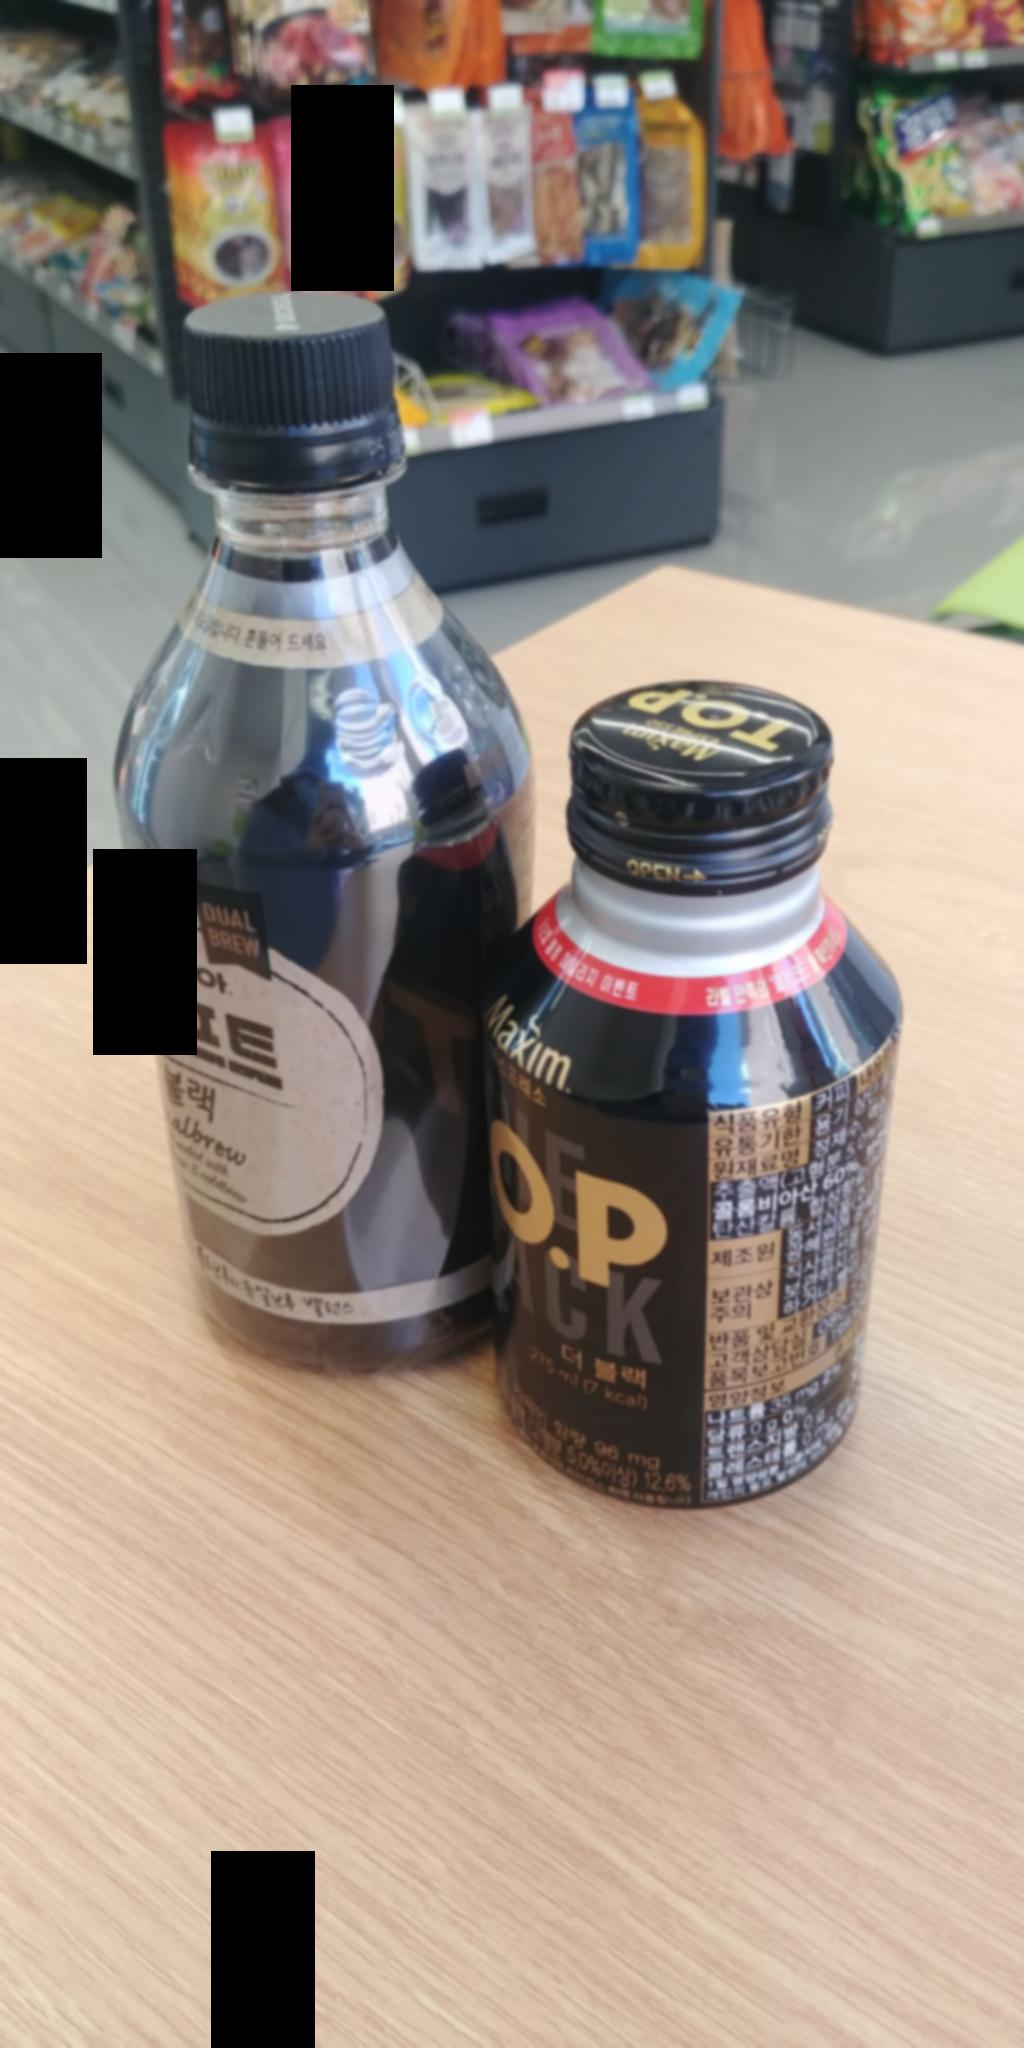TOP_black: (515, 649, 920, 1506)
georgiacraft_black: (81, 299, 505, 1353)
